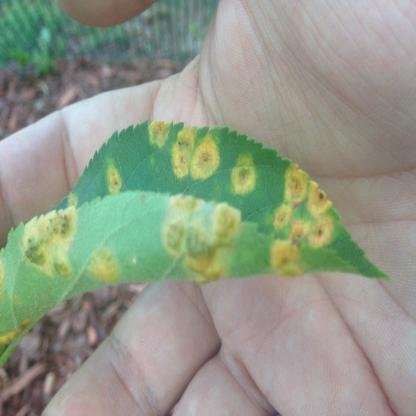Apple rust leaf: (5, 125, 387, 350)
